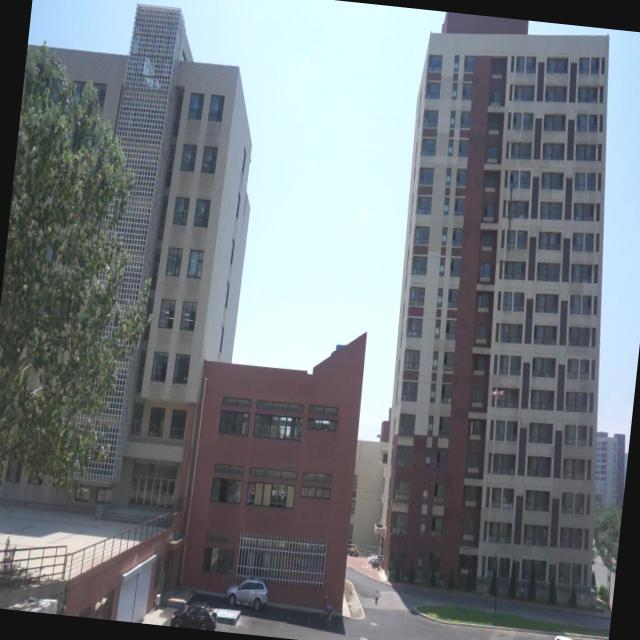drone: (488, 381, 506, 403)
